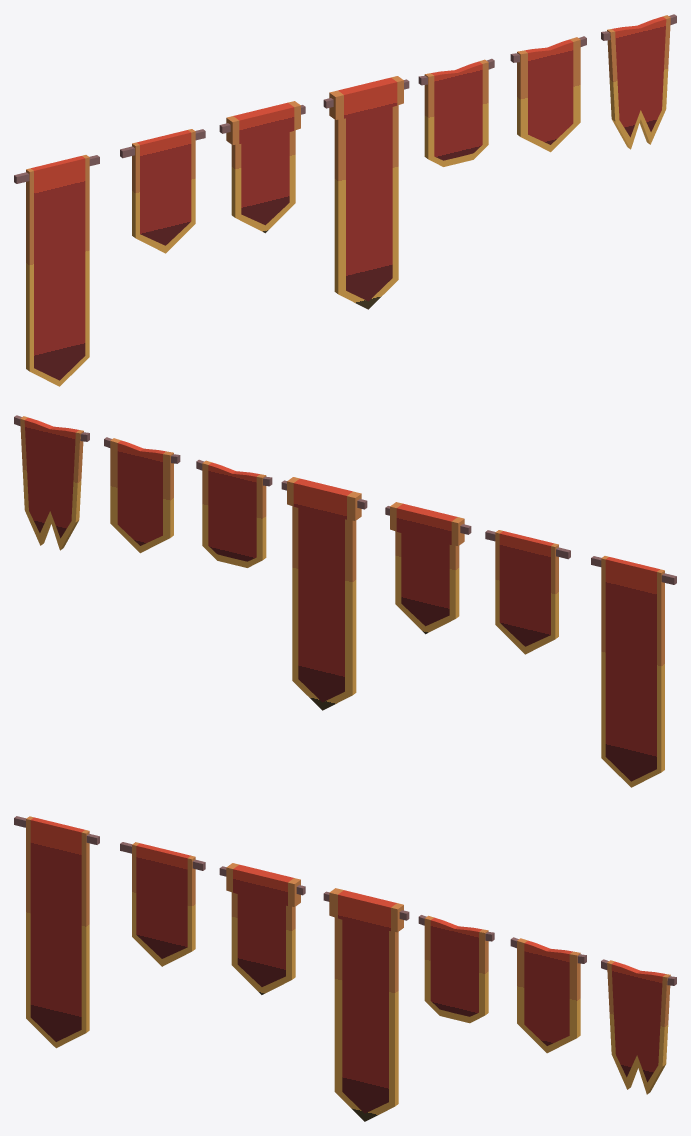
The model's file is bannieres_assets.fbx.
The picture shows the model from 3 angles, top to bottom: view 1: azimuth 30°, elevation 25°; view 2: azimuth 150°, elevation 25°; view 3: azimuth 330°, elevation 25°; orthographic projection.
Visible parts, largest first — view 1: polySurface9, polySurface11, polySurface1, polySurface14, polySurface4, polySurface5, polySurface7; view 2: polySurface9, polySurface11, polySurface1, polySurface14, polySurface4, polySurface5, polySurface7; view 3: polySurface9, polySurface11, polySurface1, polySurface14, polySurface4, polySurface5, polySurface7.
Part boxes in pixels (<box>): polySurface9: <box>323,76,409,309</box>; polySurface11: <box>14,155,99,386</box>; polySurface1: <box>219,101,305,233</box>; polySurface14: <box>120,129,205,253</box>; polySurface4: <box>601,14,676,149</box>; polySurface5: <box>510,36,586,152</box>; polySurface7: <box>418,58,494,166</box>; polySurface9: <box>281,477,367,710</box>; polySurface11: <box>591,556,676,787</box>; polySurface1: <box>385,502,471,634</box>; polySurface14: <box>485,530,570,654</box>; polySurface4: <box>14,415,89,550</box>; polySurface5: <box>104,437,180,553</box>; polySurface7: <box>196,459,272,567</box>; polySurface9: <box>323,888,409,1121</box>; polySurface11: <box>14,816,99,1048</box>; polySurface1: <box>219,863,305,994</box>; polySurface14: <box>120,842,205,966</box>; polySurface4: <box>601,959,676,1094</box>; polySurface5: <box>510,937,586,1053</box>; polySurface7: <box>418,915,494,1023</box>.
Bounding box in the file's own units: 17.7 × 5.73 × 0.2919.
Materials: 1 (1 with a texture image).
